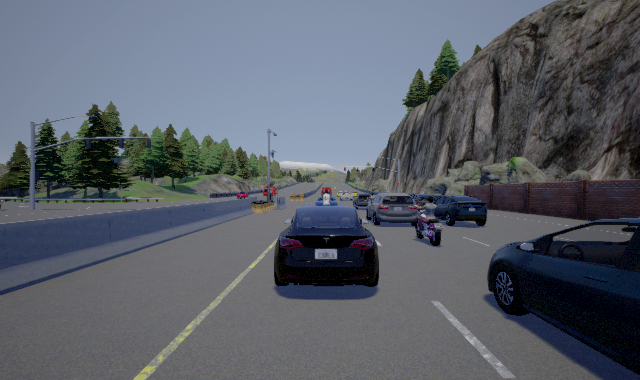motobike: (411, 195, 445, 246)
traffic_light: (372, 167, 374, 171), (344, 167, 346, 171)
vehicle: (487, 217, 640, 375), (274, 205, 380, 288), (431, 191, 491, 231), (368, 191, 418, 228), (351, 192, 377, 208)
